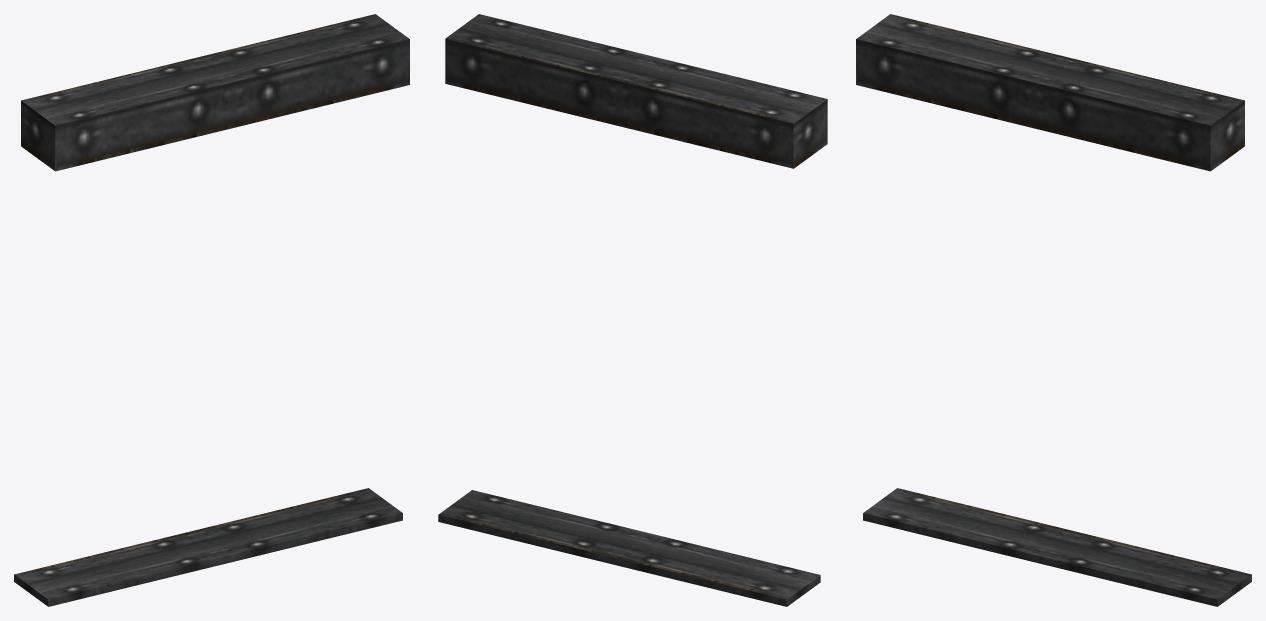
3 views of the same model, side by side, from view 1: azimuth 30°, elevation 25°; view 2: azimuth 150°, elevation 25°; view 3: azimuth 330°, elevation 25° (orthographic).
Visible parts, largest first — view 1: a80; view 2: a80; view 3: a80.
Boxes of the visible parts, x1,y1,x2,y2 form: a80: [14, 14, 409, 606]; a80: [438, 14, 827, 606]; a80: [856, 14, 1251, 606].
Bounding box in the file's own units: 513 × 673 × 103.
